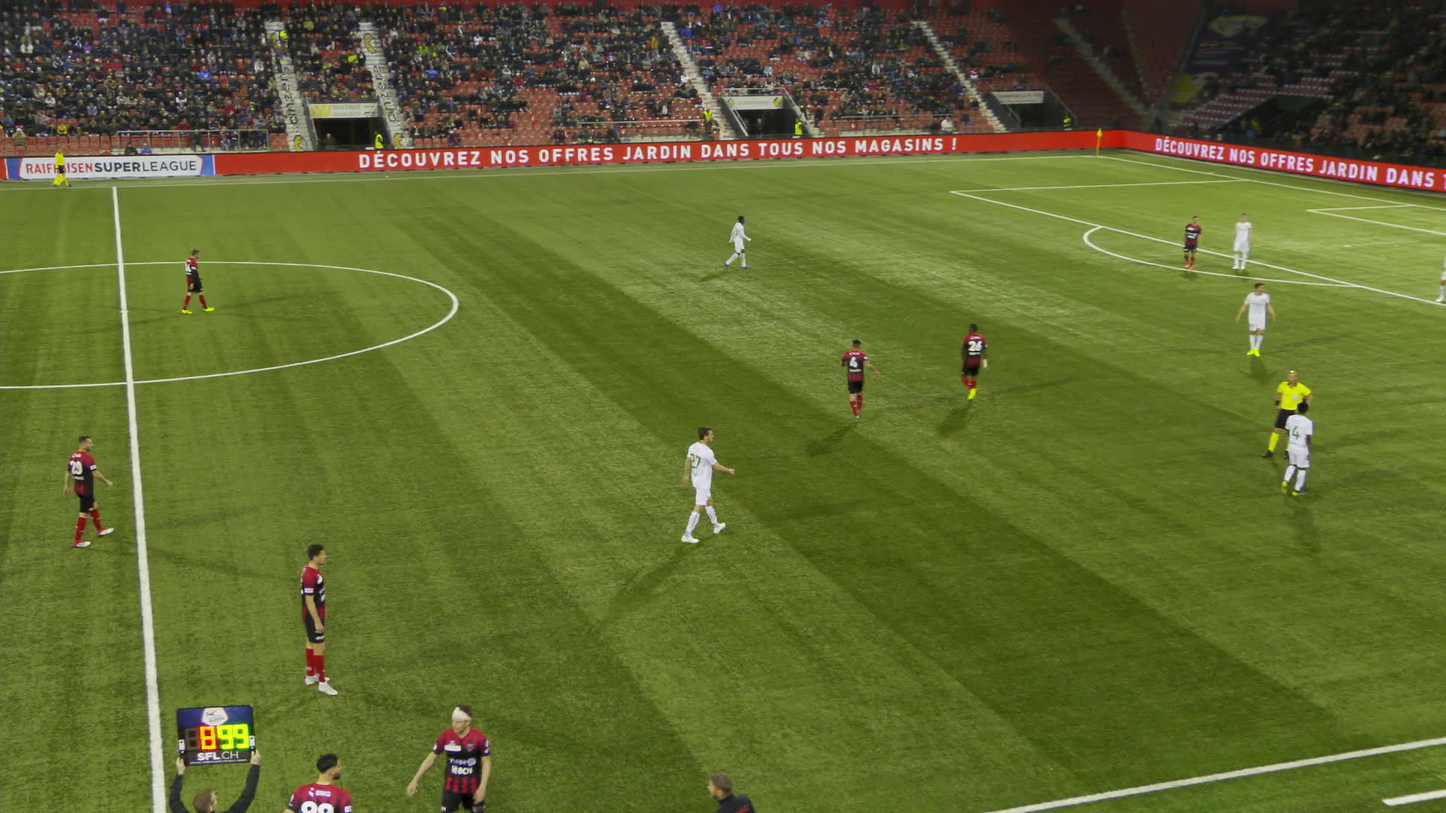player: (408, 702, 493, 812), (296, 544, 342, 693), (680, 424, 734, 542), (63, 436, 110, 547), (1276, 402, 1311, 501), (837, 338, 878, 418), (1237, 283, 1273, 355), (959, 324, 990, 400), (182, 248, 211, 314), (727, 215, 752, 270), (1231, 215, 1252, 271), (1181, 215, 1202, 269), (1437, 259, 1445, 304)
referee: (1262, 369, 1310, 461), (52, 146, 72, 187)
